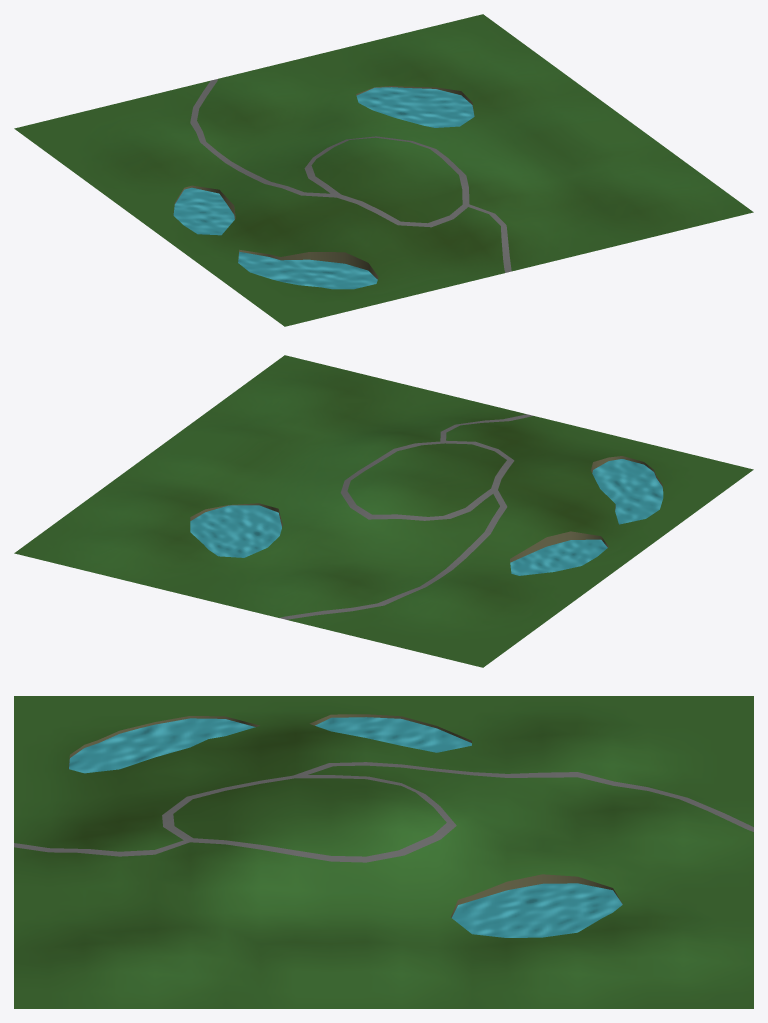
File: rock_kicking_park_ground_new.glb
The picture shows the model from 3 angles, top to bottom: view 1: azimuth 30°, elevation 25°; view 2: azimuth 150°, elevation 25°; view 3: azimuth 270°, elevation 25°; orthographic projection. The views are drawn at different scales.
Parts seen in each view (by area): view 1: GroundReal, GroundRealNoTrees, GroundWater, GroundPath, GroundLakeSides; view 2: GroundReal, GroundWater, GroundRealNoTrees, GroundPath, GroundLakeSides; view 3: GroundReal, GroundRealNoTrees, GroundWater, GroundPath, GroundLakeSides.
Boxes of the visible parts, x1,y1,x2,y2 form: GroundReal: (14,14,753,326); GroundRealNoTrees: (311,137,462,223); GroundWater: (173,87,474,289); GroundPath: (190,79,511,272); GroundLakeSides: (173,86,474,279); GroundReal: (14,355,753,667); GroundWater: (190,459,663,575); GroundRealNoTrees: (347,443,506,516); GroundPath: (279,414,533,619); GroundLakeSides: (190,456,663,562); GroundReal: (14,696,753,1008); GroundRealNoTrees: (173,778,446,856); GroundWater: (69,717,622,937); GroundPath: (14,762,753,862); GroundLakeSides: (68,714,622,917).
Size of the model in its own units: 500 by 39.97 by 500.
4 materials, 2 textured.
